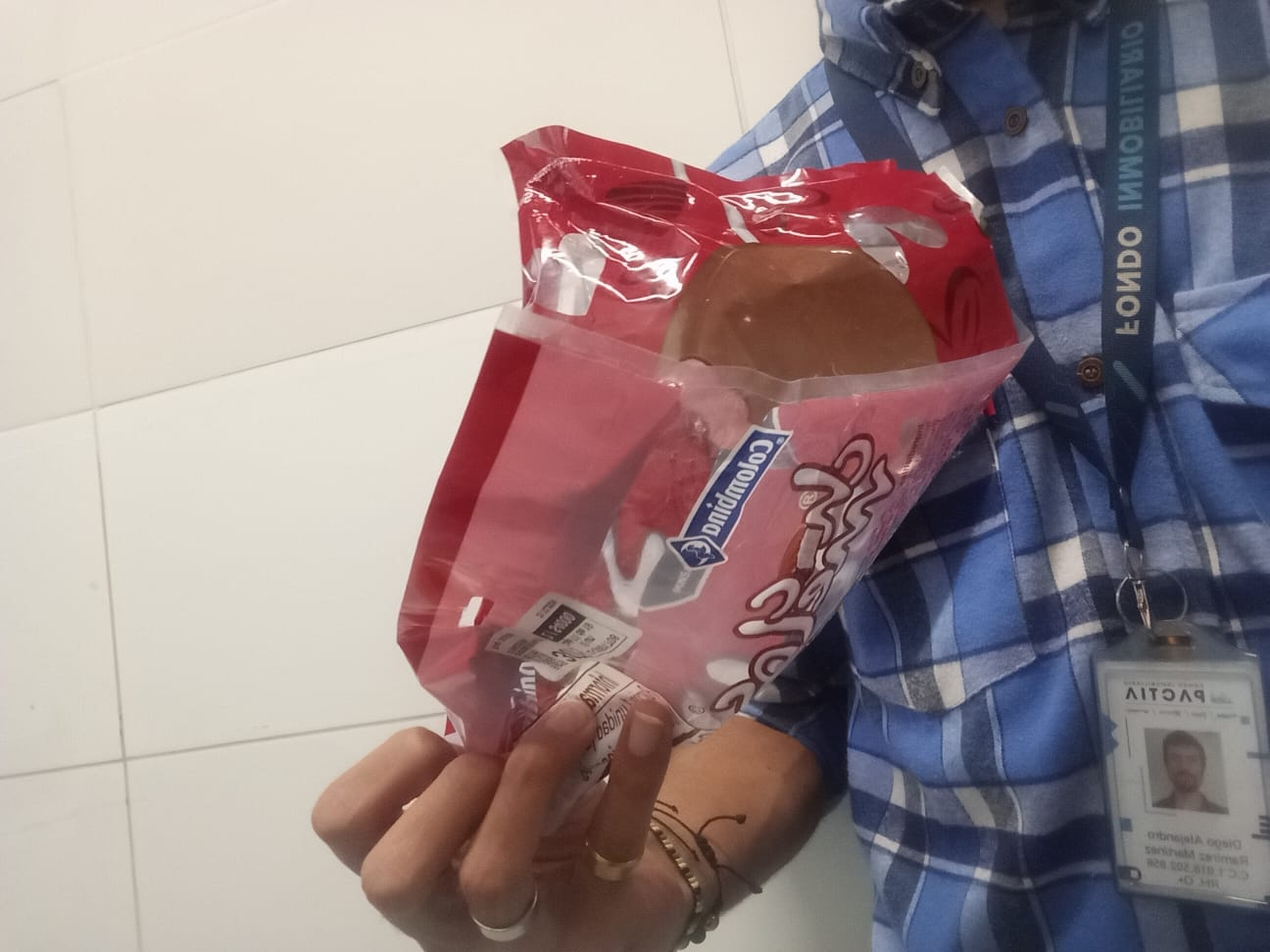Ordinario: (399, 126, 1036, 773)
